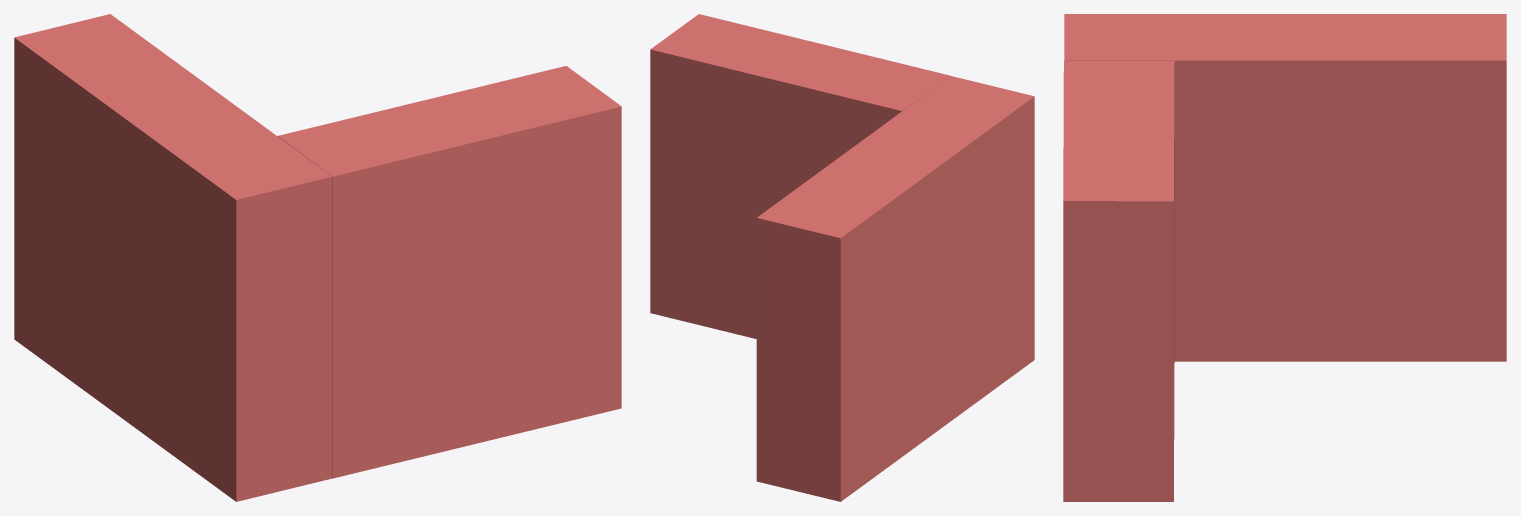
File: corner_wallrail.fbx
3 views of the same model, side by side, from view 1: azimuth 30°, elevation 25°; view 2: azimuth 150°, elevation 25°; view 3: azimuth 270°, elevation 25° (orthographic). The views are drawn at different scales.
Parts seen in each view (by area): view 1: Cube, Cube.001; view 2: Cube, Cube.001; view 3: Cube, Cube.001.
Part boxes in pixels (x1,y1,x2,y2): Cube: (14,14,332,501); Cube.001: (277,66,621,478); Cube: (756,76,1034,501); Cube.001: (650,14,950,338); Cube: (1064,14,1506,361); Cube.001: (1063,61,1174,501).
Bounding box in the file's own units: 40.04 × 30 × 40.09.
